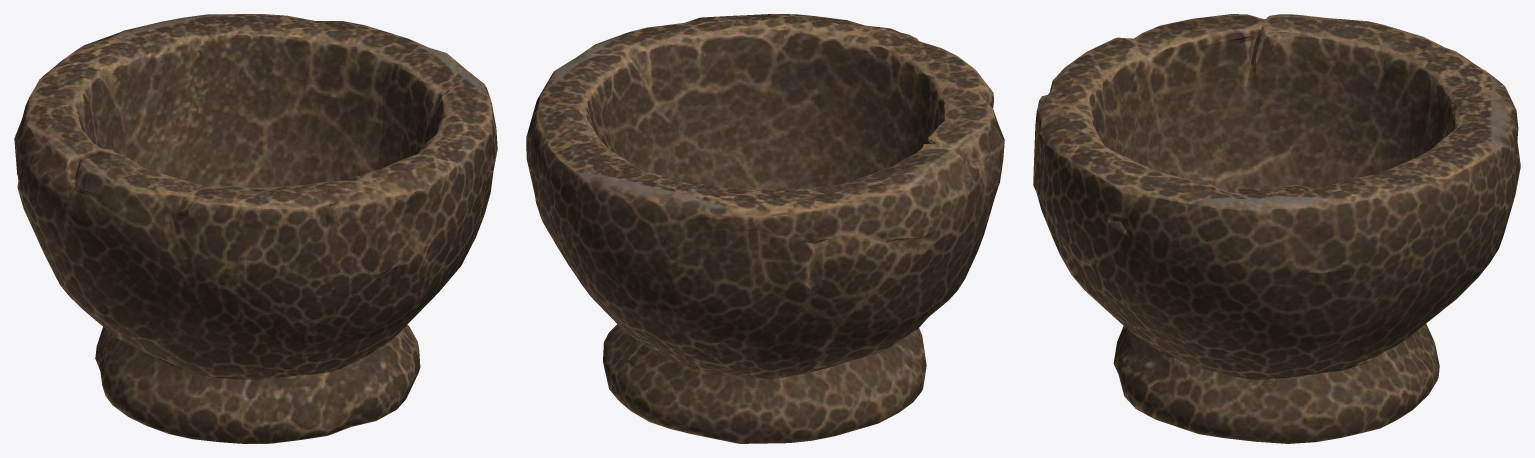
File: mortar.glb
The picture shows the model from 3 angles, left to right: view 1: azimuth 30°, elevation 25°; view 2: azimuth 150°, elevation 25°; view 3: azimuth 270°, elevation 25°; orthographic projection.
Parts seen in each view (by area): view 1: Mesh0; view 2: Mesh0; view 3: Mesh0.
Boxes of the visible parts, x1,y1,x2,y2 form: Mesh0: (14,14,497,443); Mesh0: (526,14,1004,443); Mesh0: (1033,14,1520,443).
Size of the model in its own units: 0.1997 by 0.1248 by 0.2.
Materials: 1 (1 with a texture image).
